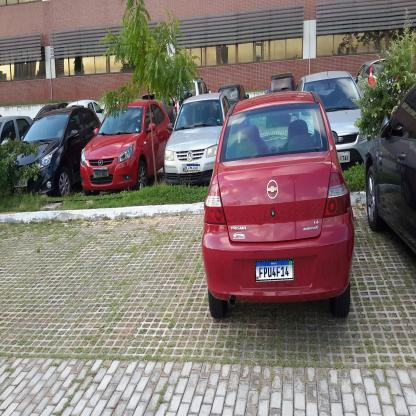PlacaM: (255, 259, 294, 281), (93, 169, 109, 177), (187, 164, 200, 171)
